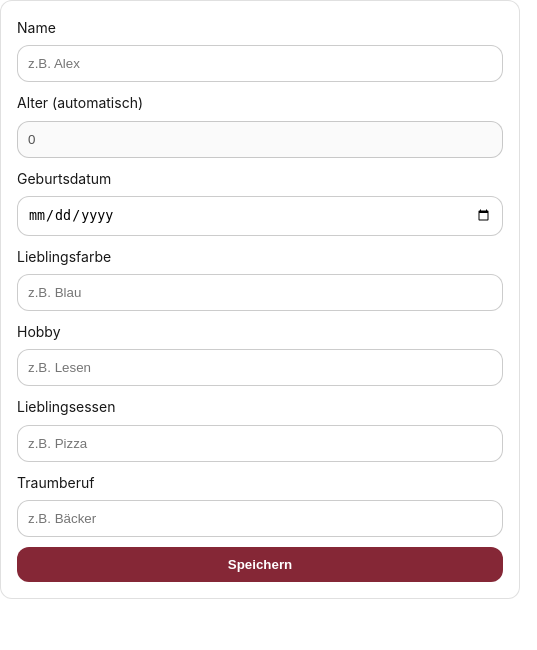
Test case: Eintrag.vue › speichert ein neuen Eintrag und erstellt es
Type "Muster" into the field labelled "Name" at (260, 64), box [17,45,503,82]
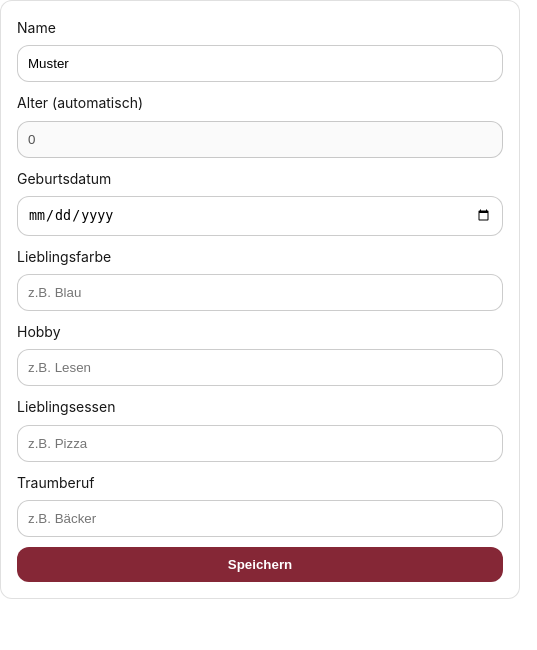
Type "2000-01-01" into the date field labelled "Geburtsdatum" at (260, 216), box [17,196,503,236]
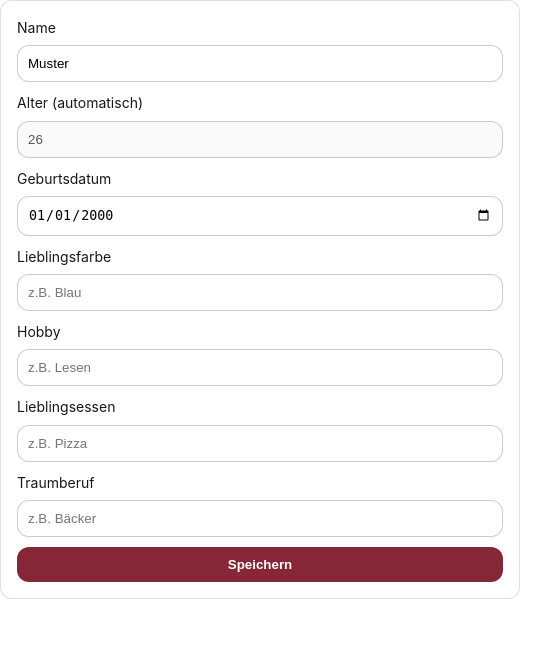
Submit the form
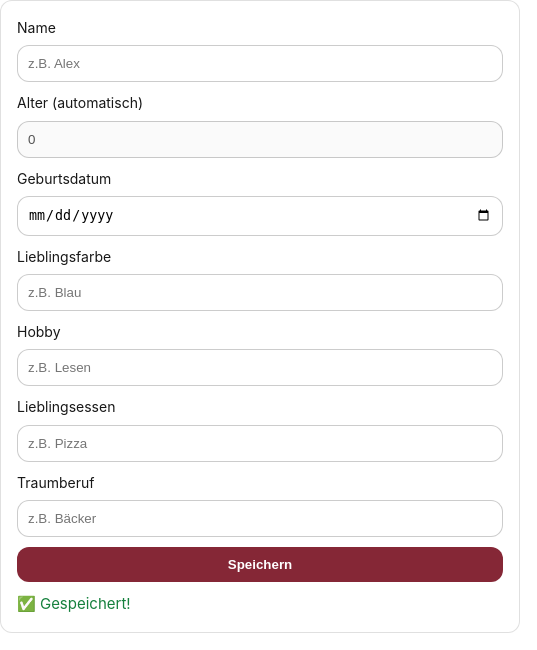
Check: the form shows "✅ Gespeichert!", box [17,594,131,613]
